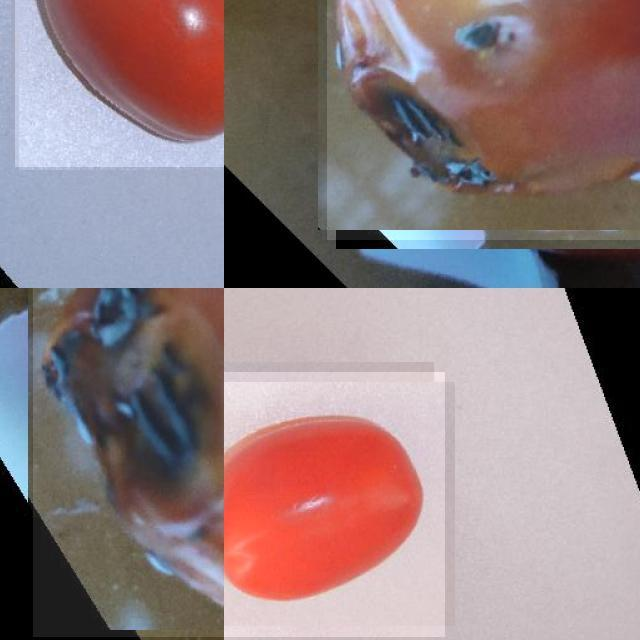Fresh Tomato: (224, 372, 444, 636), (14, 0, 224, 166)
Rotten Tomato: (327, 0, 640, 239), (33, 288, 224, 636)
